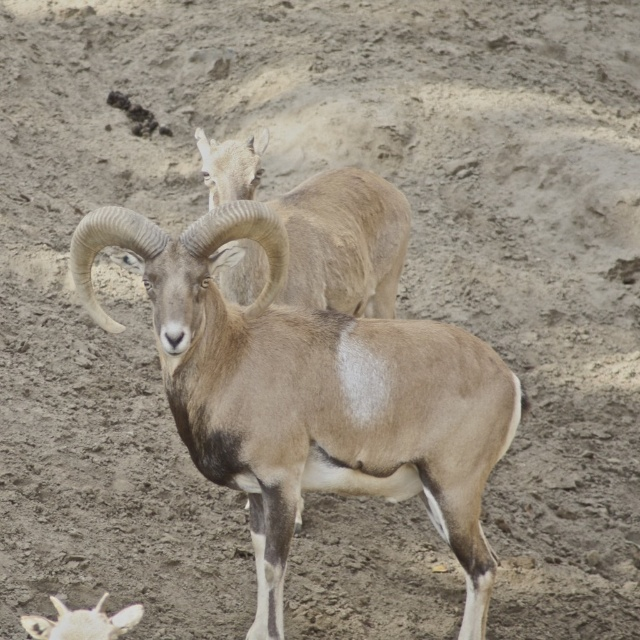Sheep: (69, 201, 522, 640)
